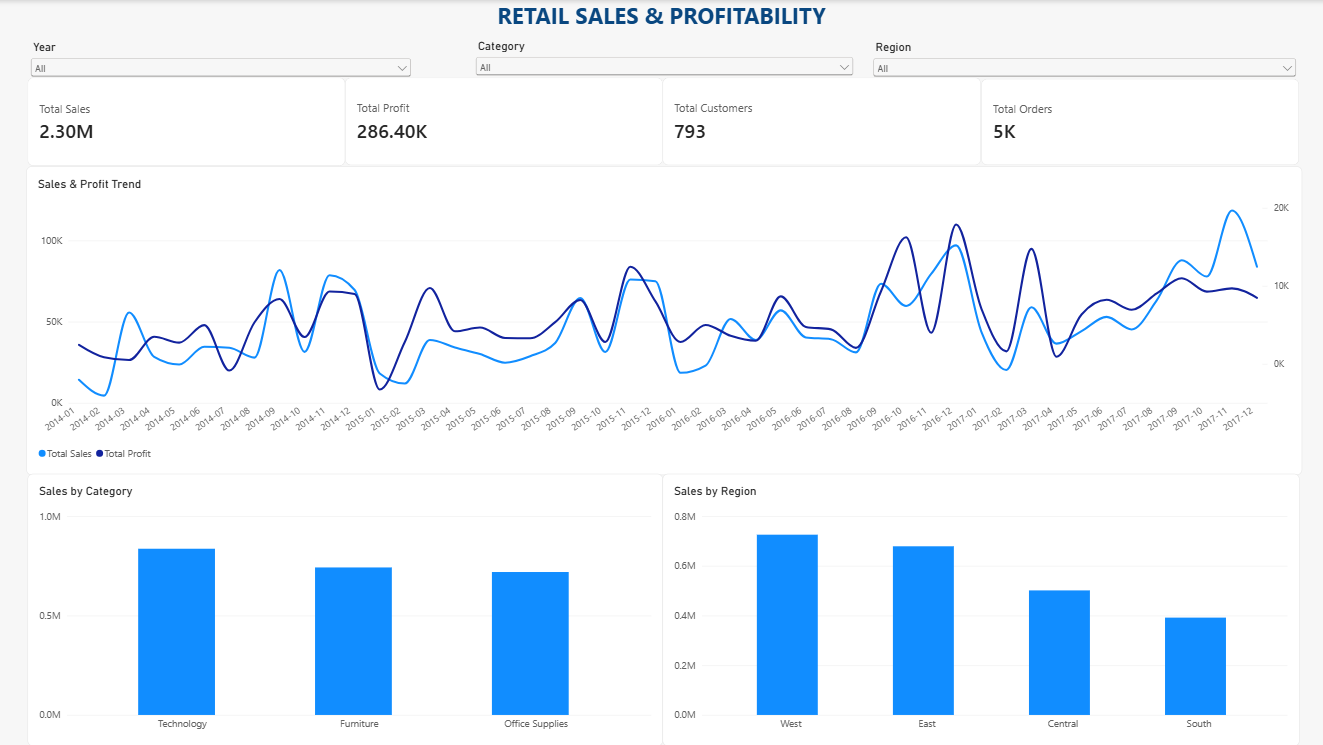

Layout of this report page (visuals, bound fields, positions):
{"tool":"powerbi","page":{"name":"Executive Overview","canvas":[1920,1080],"ordinal":0},"visuals":[{"type":"cardVisual","fields":{"Data":["Fact_Sale1.Total Sale"]},"box":[40,112,460,128],"z":0},{"type":"cardVisual","fields":{"Data":["Fact_Sale1.Total Profit"]},"box":[500,112.9,460,127.1],"z":1000},{"type":"cardVisual","fields":{"Data":["Fact_Sale1.Total Order"]},"box":[1421.4,114.3,460,125.7],"z":2000},{"type":"cardVisual","fields":{"Data":["Fact_Sale1.Total Customer"]},"box":[960,112.9,461.4,127.1],"z":3000},{"type":"lineChart","title":"Sales & Profit Trend","fields":{"Category":["Dim_Date.Month Year"],"Y":["Fact_Sale1.Total Sale"],"Y2":["Fact_Sale1.Total Profit"]},"box":[38,240,1847.5,447.5],"z":4000},{"type":"slicer","fields":{"Values":["Dim_Date.Year"]},"box":[40,58,560,58],"z":5000},{"type":"slicer","fields":{"Values":["Dim_Product.Category"]},"box":[684,56,556,114],"z":6000},{"type":"slicer","fields":{"Values":["Fact_Sale1.Region"]},"box":[1260,58,622,56],"z":7000},{"type":"textbox","box":[720,0,482.5,46.2],"z":8000},{"type":"clusteredColumnChart","title":"Sales by Category","fields":{"Category":["Dim_Product.Category"],"Y":["Fact_Sale1.Total Sale"]},"box":[40,686,920,394],"z":9000},{"type":"clusteredColumnChart","title":"Sales by Region","fields":{"Category":["Fact_Sale1.Region"],"Y":["Fact_Sale1.Total Sale"]},"box":[960,686,922,394],"z":10000}]}

Visuals, with their boxes in screenshot pixels (x1, y1, x2, y2), scaled from the page's 1920x1080 canvas onto the 1323x745 screenshot:
cardVisual - Fact_Sale1.Total Sale: select_region(28, 77, 345, 166)
cardVisual - Fact_Sale1.Total Profit: select_region(345, 78, 662, 166)
cardVisual - Fact_Sale1.Total Order: select_region(979, 79, 1296, 166)
cardVisual - Fact_Sale1.Total Customer: select_region(662, 78, 979, 166)
"Sales & Profit Trend" lineChart: select_region(26, 166, 1299, 474)
slicer - Dim_Date.Year: select_region(28, 40, 413, 80)
slicer - Dim_Product.Category: select_region(471, 39, 854, 117)
slicer - Fact_Sale1.Region: select_region(868, 40, 1297, 79)
textbox: select_region(496, 0, 829, 32)
"Sales by Category" clusteredColumnChart: select_region(28, 473, 662, 744)
"Sales by Region" clusteredColumnChart: select_region(662, 473, 1297, 744)
